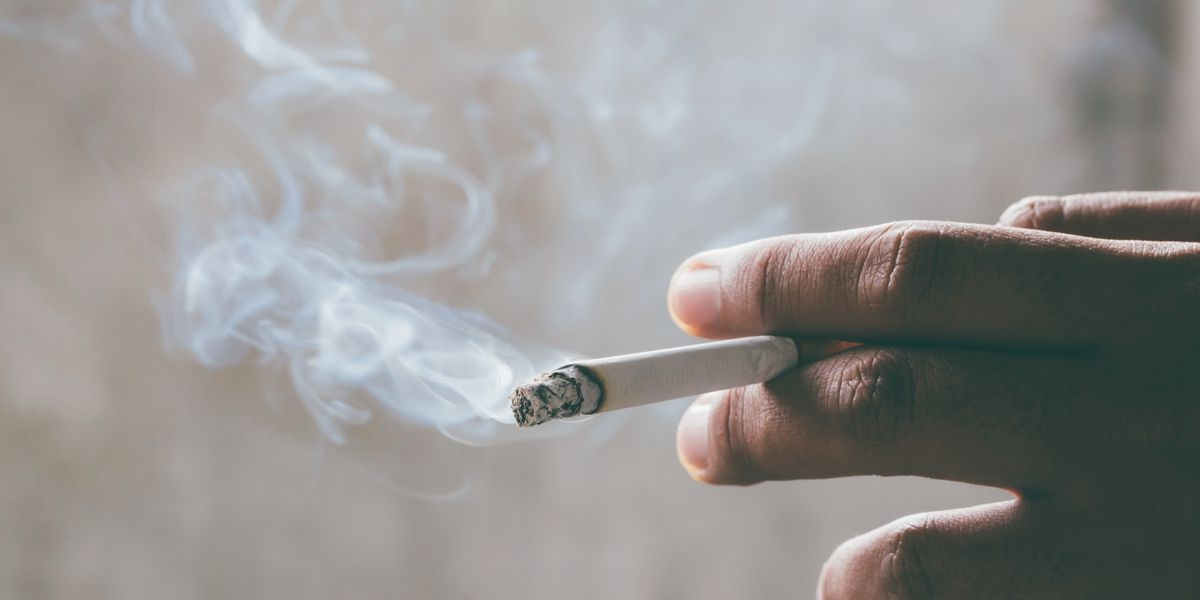sigaretta: (485, 340, 891, 437)
